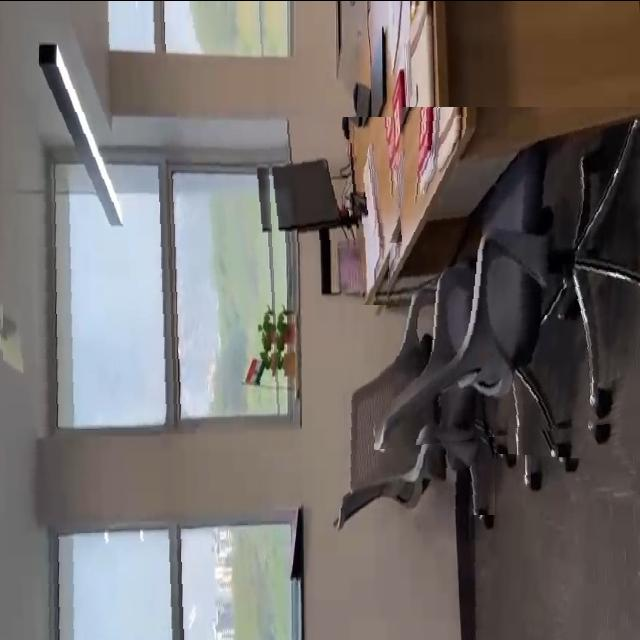floor: (465, 451, 640, 640)
furniture: (374, 106, 640, 449), (331, 304, 495, 514), (270, 116, 402, 250)
wall: (3, 0, 290, 640)
